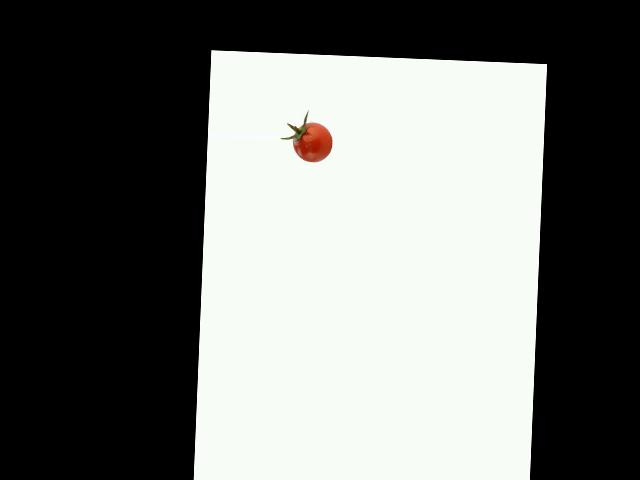tomato: (292, 122, 333, 163)
